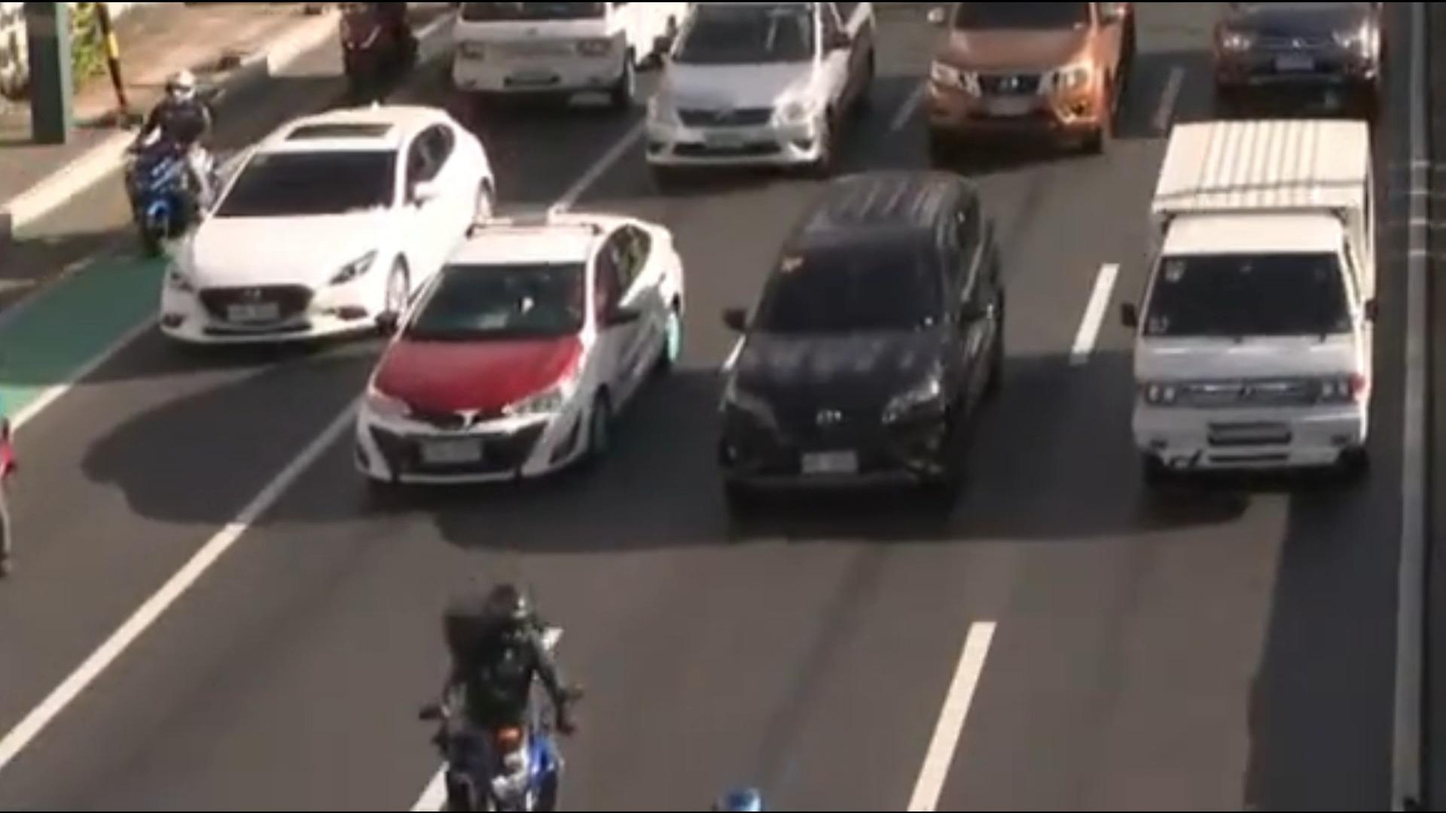Motorcycle: (396, 548, 618, 813), (102, 72, 232, 285), (314, 0, 433, 115)
Multicab: (1055, 96, 1412, 500)
SUV: (685, 160, 1021, 520)
Sedan: (332, 175, 712, 497), (146, 104, 511, 380)
